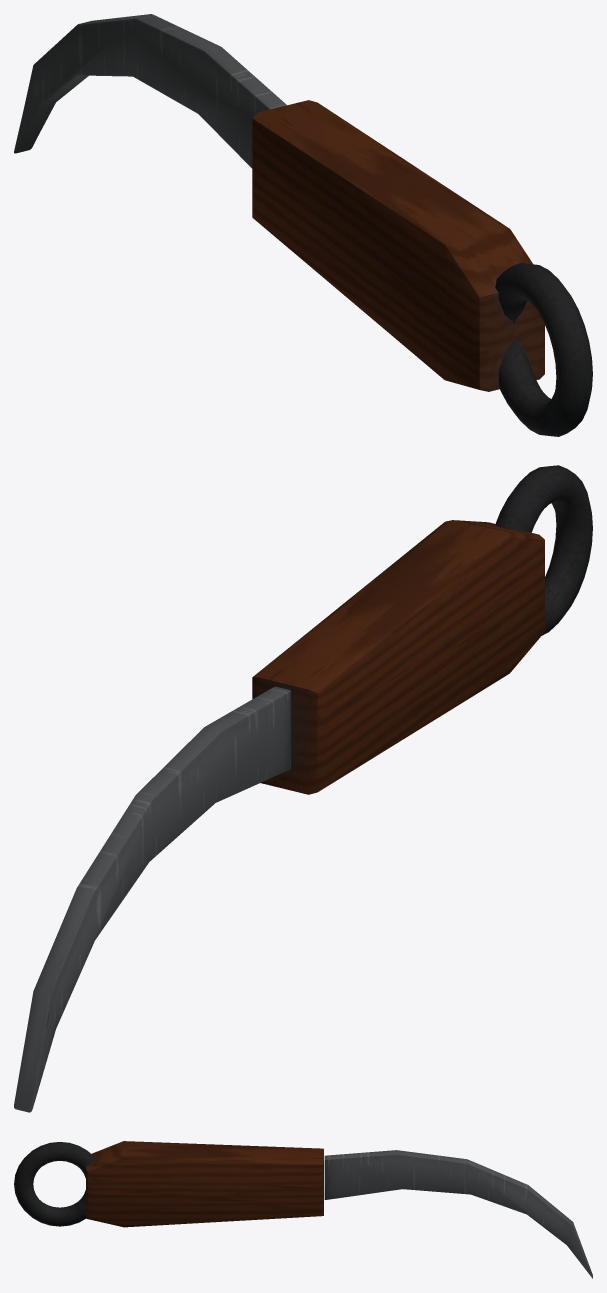
Rendered from knife_talon.glb.
3 views of the same model, one above another, from view 1: azimuth 30°, elevation 25°; view 2: azimuth 150°, elevation 25°; view 3: azimuth 270°, elevation 25° (orthographic). The views are drawn at different scales.
Visible parts, largest first — view 1: body_furniture, body_receiver; view 2: body_furniture, body_receiver; view 3: body_furniture, body_receiver.
Part boxes in pixels (box(x1,y1,x2,y2)): body_furniture: box(252, 100, 544, 391); body_receiver: box(14, 14, 592, 436); body_furniture: box(252, 520, 544, 794); body_receiver: box(14, 465, 592, 1112); body_furniture: box(86, 1141, 323, 1227); body_receiver: box(14, 1142, 592, 1278).
Bounding box in the file's own units: 0.021 × 0.0737 × 0.2872.
Materials: 2 (2 with a texture image).
